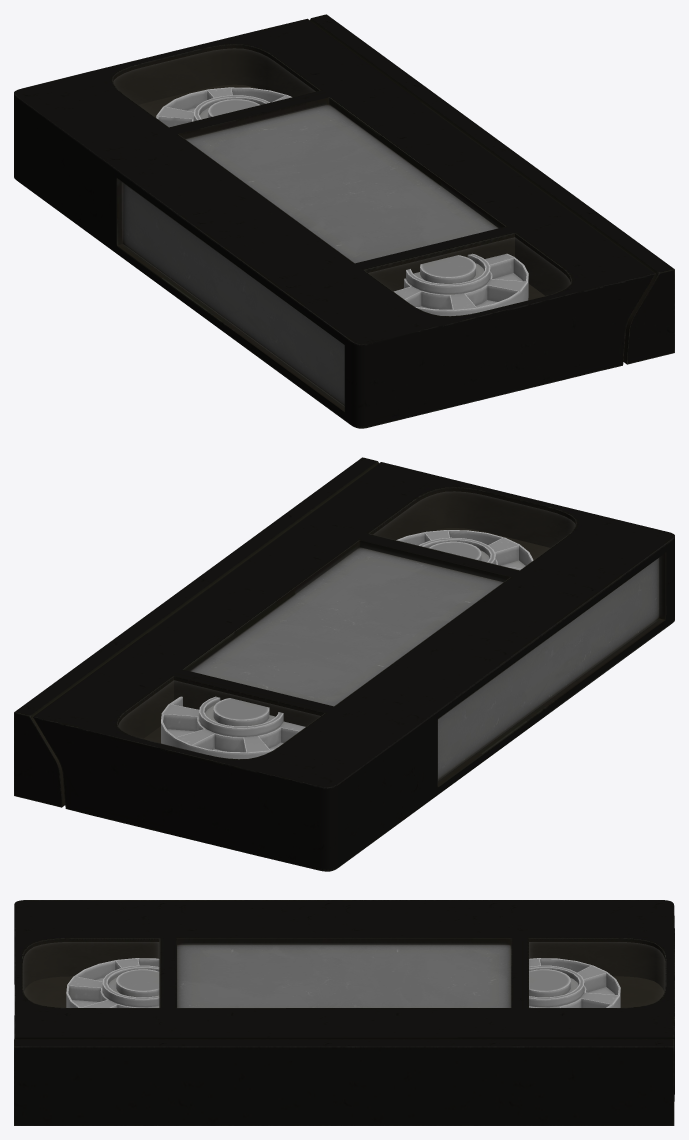
File: vhs_tape.glb
The picture shows the model from 3 angles, top to bottom: view 1: azimuth 30°, elevation 25°; view 2: azimuth 150°, elevation 25°; view 3: azimuth 270°, elevation 25°; orthographic projection. The views are drawn at different scales.
Visible parts, largest first — view 1: Box005; view 2: Box005; view 3: Box005.
Part boxes in pixels (x1,y1,x2,y2): Box005: (14,14,674,428); Box005: (14,457,674,871); Box005: (14,900,674,1125).
Size of the model in its own units: 0.0987 by 0.0263 by 0.1882.
2 materials, 2 textured.
